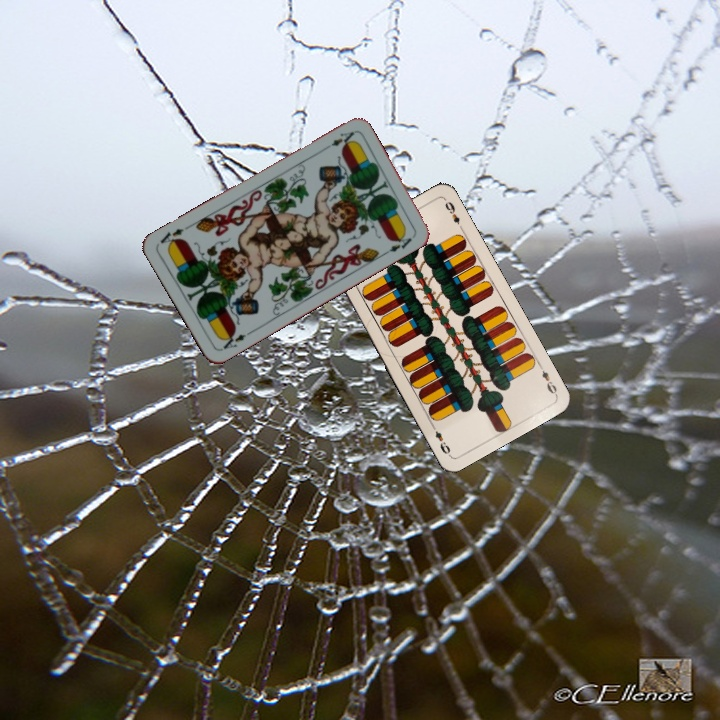E9: (535, 360, 560, 398)
EA: (216, 327, 254, 353), (327, 127, 357, 149)
